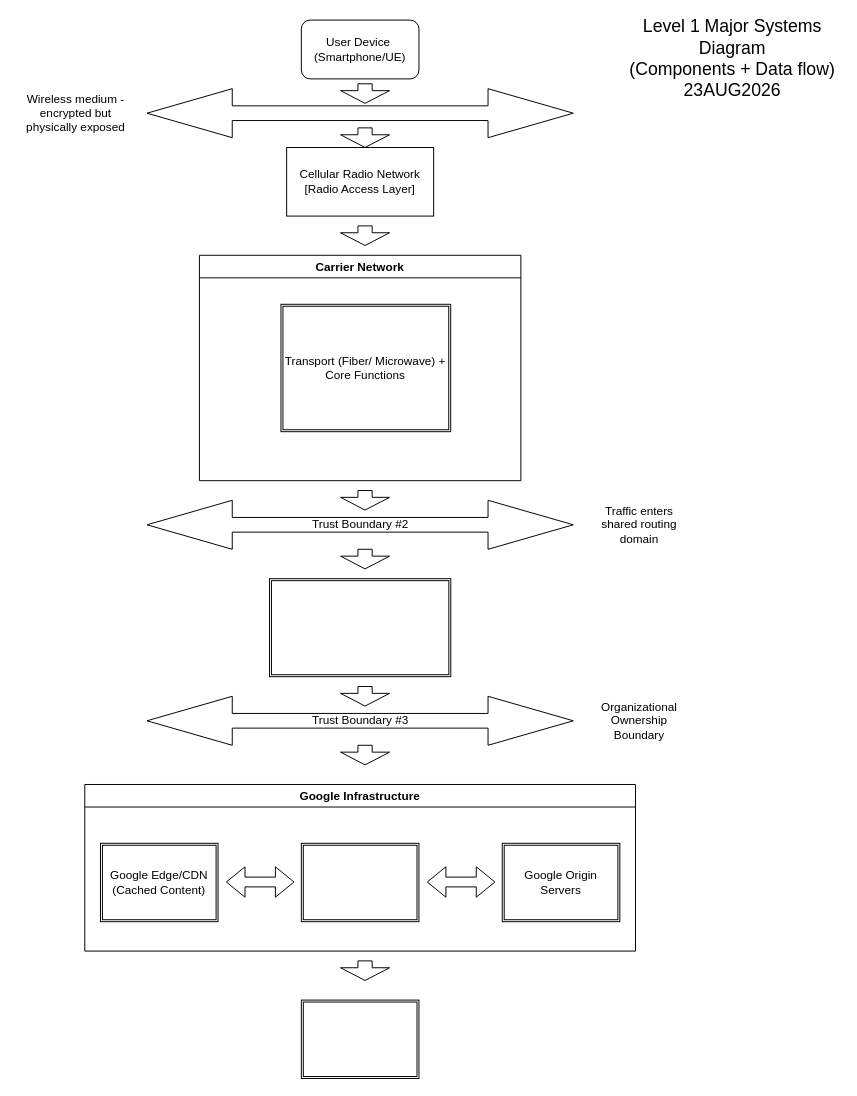
The diagram is 857 pixels wide and 1096 high, and some of its shapes have lost their labels. The shapes that lost their labels are listed below. From the top down, each one's box as (x1, y1, x2, y2) in pixels, then its label:
(146, 88, 573, 138): Trust Boundary #1
(269, 578, 451, 677): Internet (Public Routing/ Peering/ Carrier Gateway)
(300, 842, 419, 922): Google Region (Application)
(300, 999, 419, 1078): Response (Returns using reverse path)
